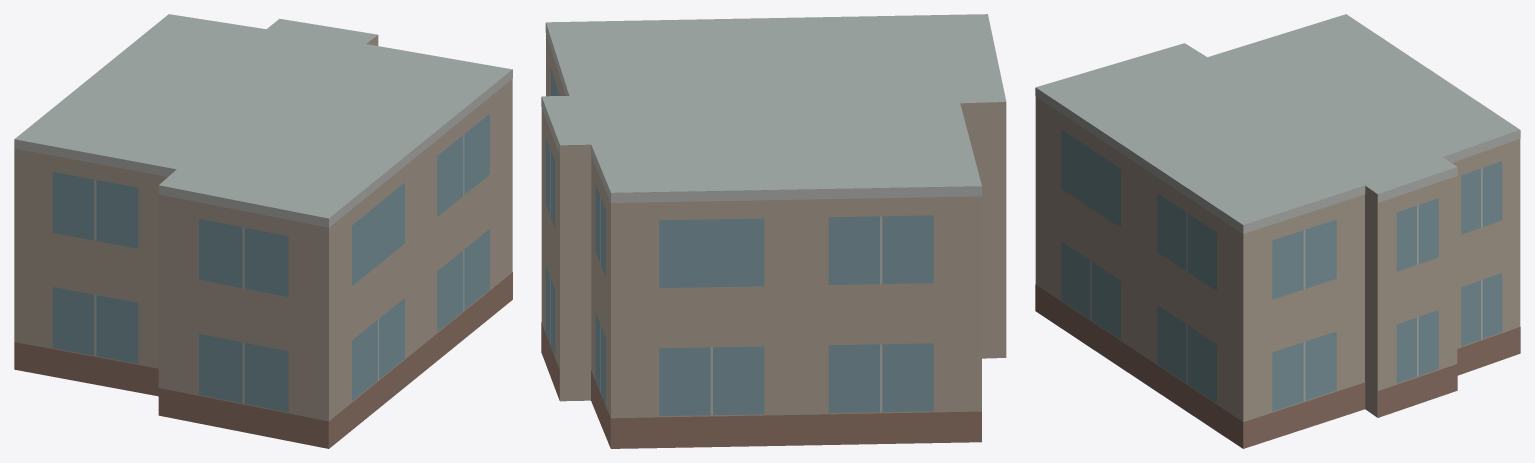
The model's file is survey-upis-32462560.glb.
3 renders of one model, left to right at view 1: azimuth 30°, elevation 25°; view 2: azimuth 150°, elevation 25°; view 3: azimuth 270°, elevation 25°, orthographic. The views are drawn at different scales.
Parts seen in each view (by area): view 1: survey-upis-32462560.tmp; view 2: survey-upis-32462560.tmp; view 3: survey-upis-32462560.tmp.
Part boxes in pixels (x1,y1,x2,y2): survey-upis-32462560.tmp: [14, 14, 512, 448]; survey-upis-32462560.tmp: [541, 14, 1006, 448]; survey-upis-32462560.tmp: [1035, 14, 1520, 448].
Size of the model in its own units: 12.35 by 6.1 by 11.99.
